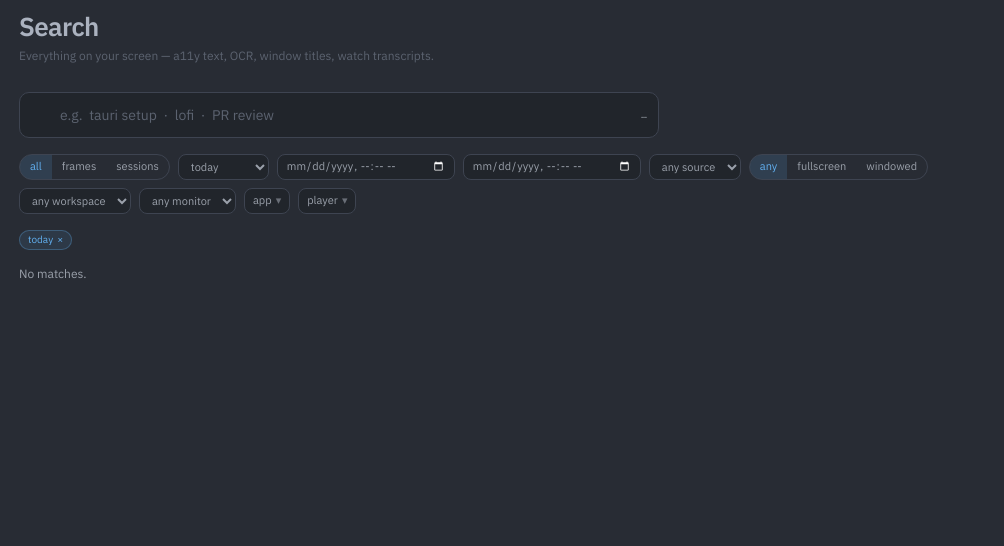
Test: SearchSurface › changing the date widget strips stale date tokens from the box
Type "on:2026-06-05 roger" into the field named "search query". click: (339, 115)
box: 19,92 -> 659,138
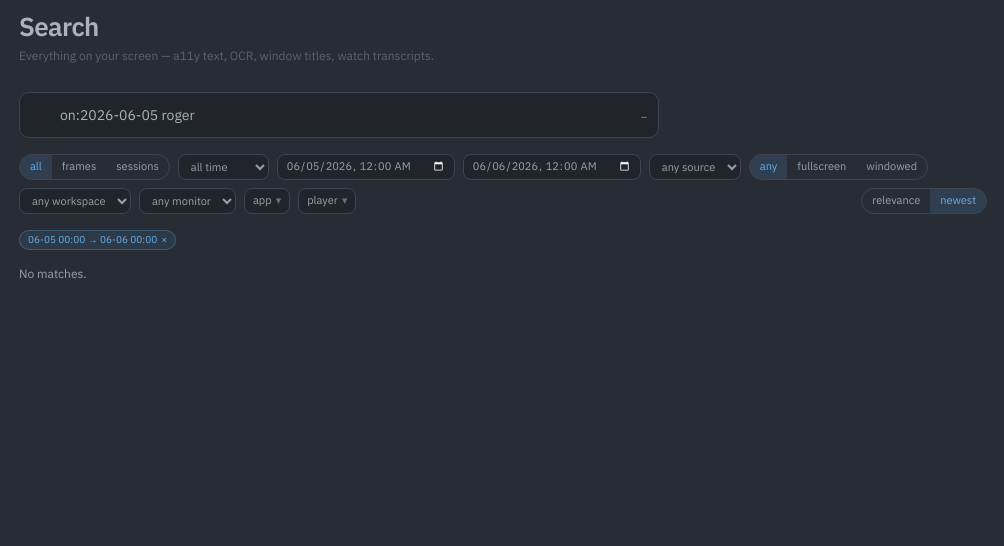
Expected: the field named "start time" holds "2026-06-05T00:00", 277,154 -> 455,180
Select "today" in the dropdown named "date range preset". click: (223, 167)
box: 178,154 -> 269,180
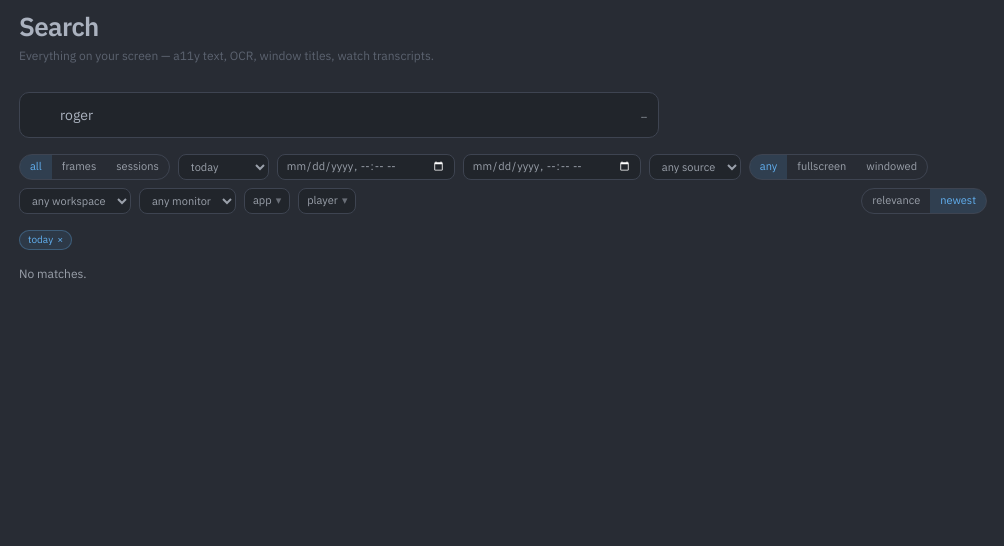
Expected: the field named "search query" holds "roger"
Replace the text in the field named "search query" with "roger after:09:30 before:18:00". click: (339, 115)
box: 19,92 -> 659,138
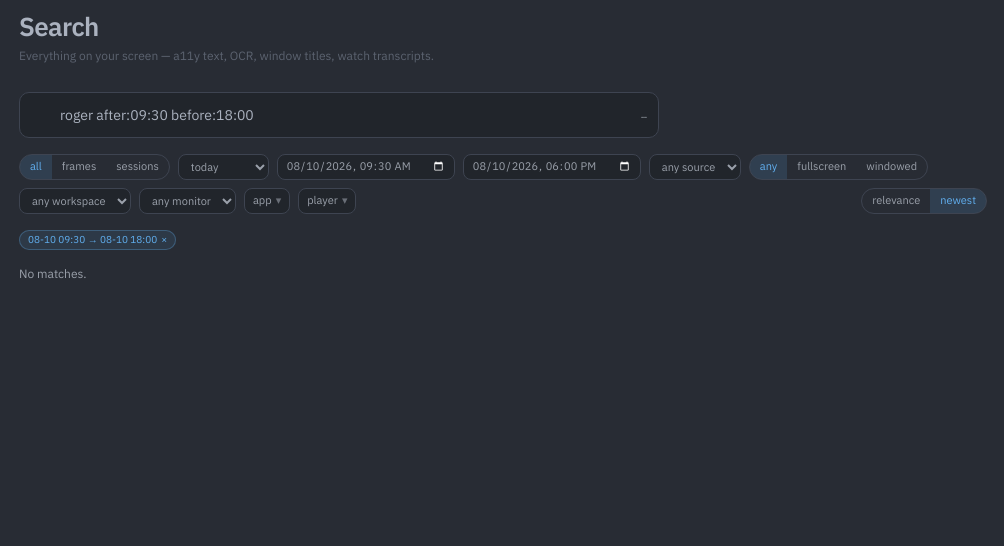
Select "all time" in the dropdown named "date range preset". click: (223, 167)
box: 178,154 -> 269,180
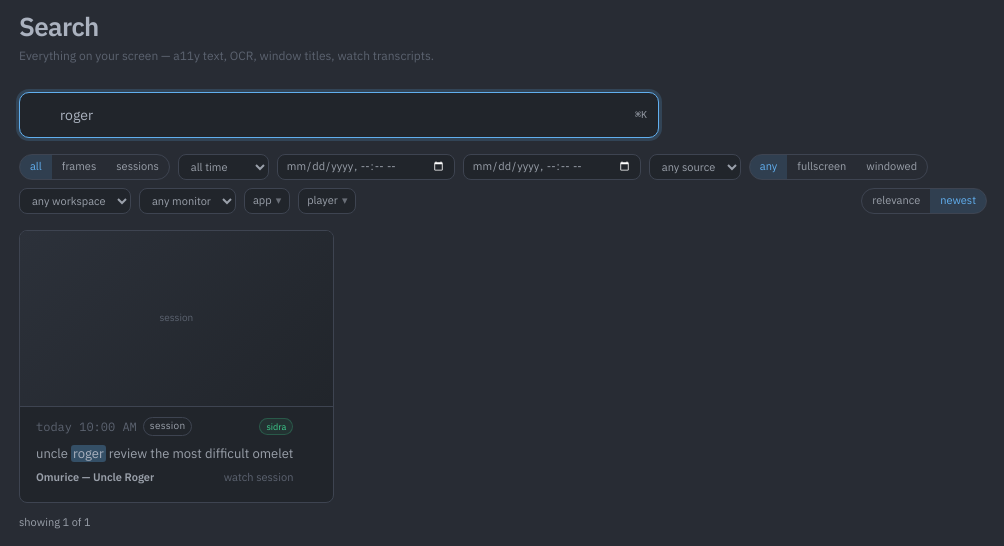
Expected: the field named "search query" holds "roger", 19,92 -> 659,138
